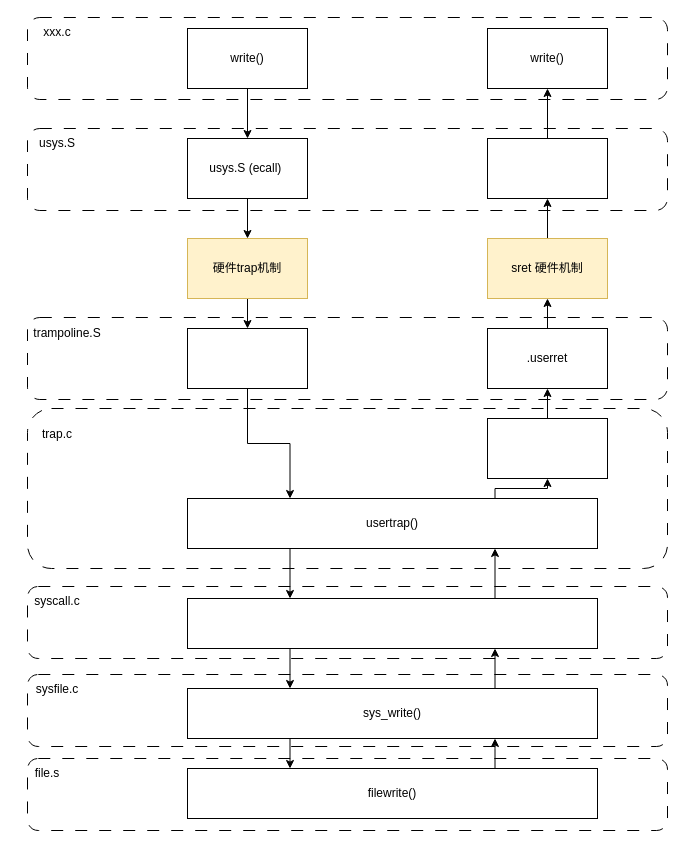
Some shapes in this 685 by 848 pixel diagram are drawn without their labels. Each missing label, with the centre of its shape:
".uservec" belongs at (247,358).
"syscall()" belongs at (392,623).
"usertrapret()" belongs at (547,448).
"usys.S ret" belongs at (547,168).
